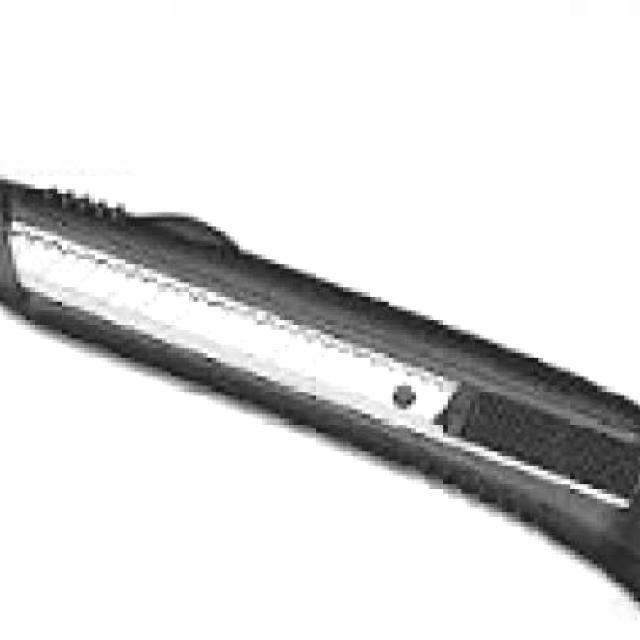estilete: (0, 176, 640, 598)
